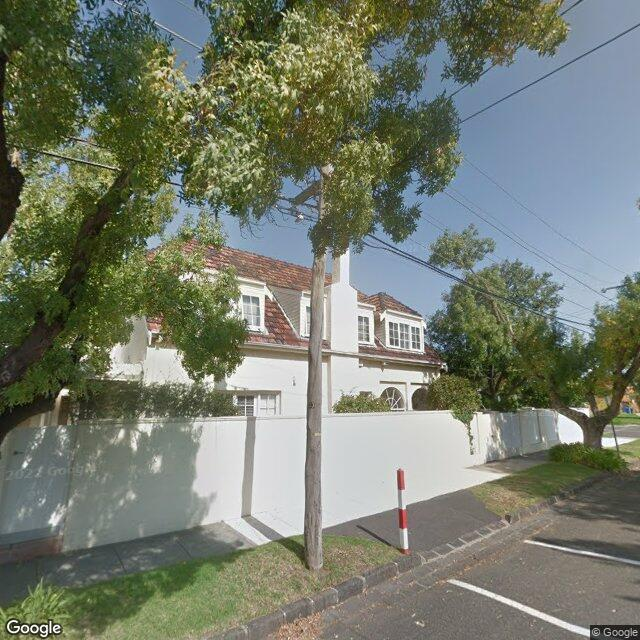crossarm: (292, 178, 322, 206)
timber-pole: (303, 159, 334, 570)
